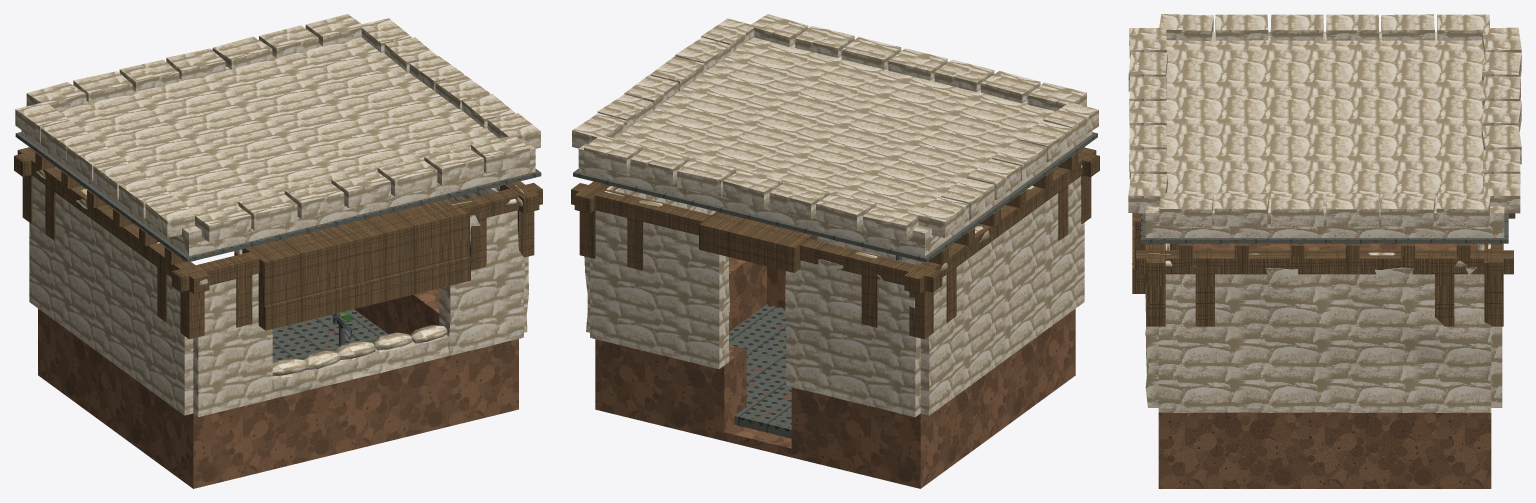
Rendered from fb_bunker_mg.glb.
3 renders of one model, left to right at view 1: azimuth 30°, elevation 25°; view 2: azimuth 150°, elevation 25°; view 3: azimuth 270°, elevation 25°, orthographic. The views are drawn at different scales.
Parts seen in each view (by area): view 1: fb_bunker_mg; view 2: fb_bunker_mg; view 3: fb_bunker_mg.
Part boxes in pixels (bbox=[...]): fb_bunker_mg: bbox=[14, 14, 542, 488]; fb_bunker_mg: bbox=[571, 14, 1099, 488]; fb_bunker_mg: bbox=[1128, 14, 1521, 488].
Size of what is drawn, in the model's own units: 5.29 by 3.68 by 4.5.
Materials: 14 (5 with a texture image).
